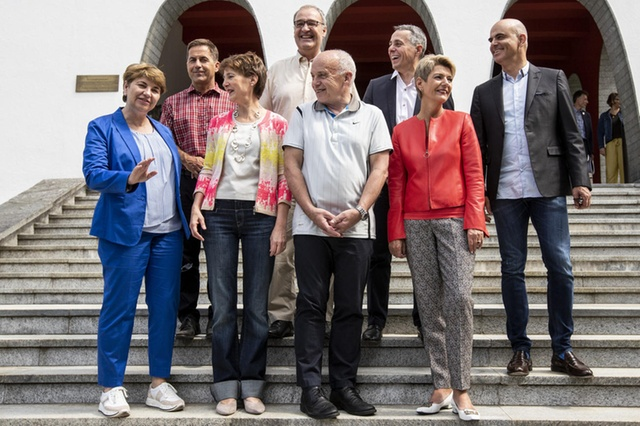person: (287, 50, 386, 158), (472, 15, 569, 117), (397, 54, 469, 161), (99, 55, 174, 155), (210, 50, 279, 155), (179, 26, 231, 134)
